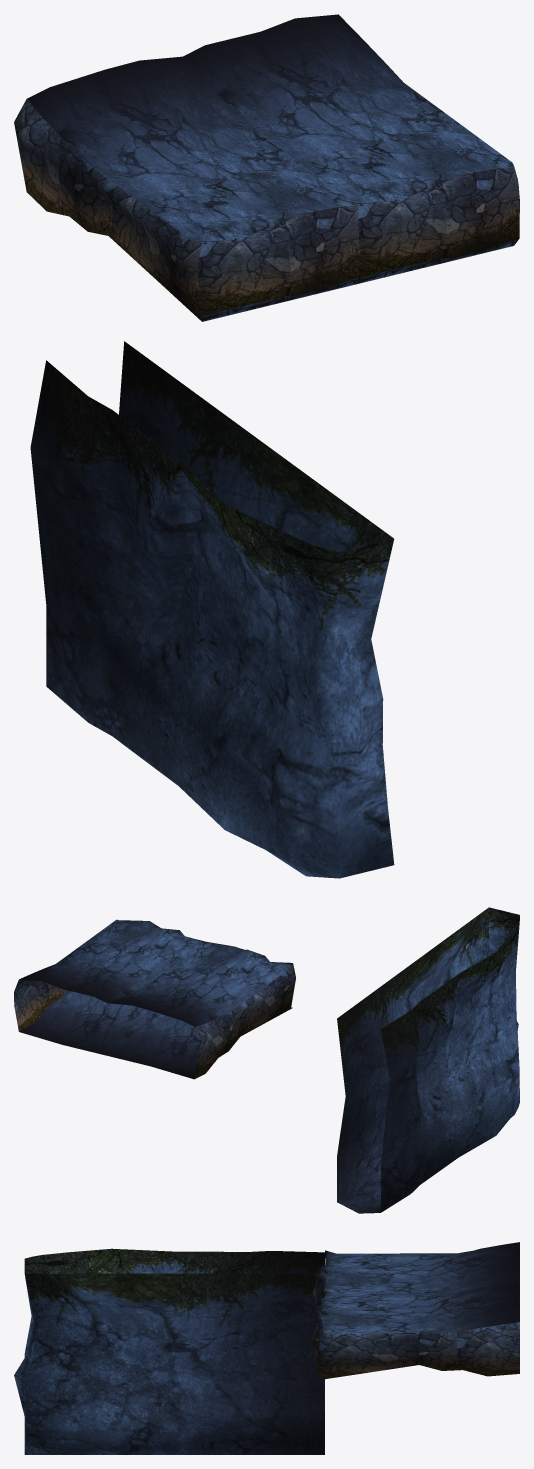
Rendered from dixing_2.FBX.
3 views of the same model, one above another, from view 1: azimuth 30°, elevation 25°; view 2: azimuth 150°, elevation 25°; view 3: azimuth 270°, elevation 25° (orthographic). The views are drawn at different scales.
Visible parts, largest first — view 1: objBox008, objObject026, Object01, Object03, Object02; view 2: objBox008, objObject026, Object03, Object01, Object02; view 3: objBox008, Object03, Object02, Object01, objObject026.
Part boxes in pixels (box(x1,y1,x2,y2)): objBox008: box(30, 341, 394, 878); objObject026: box(14, 70, 290, 321); Object01: box(183, 31, 446, 283); Object03: box(261, 14, 519, 264); Object02: box(105, 56, 359, 302); objBox008: box(337, 907, 519, 1213); objObject026: box(151, 949, 295, 1079); Object03: box(14, 919, 160, 1044); Object01: box(63, 928, 204, 1055); Object02: box(107, 941, 246, 1066); objBox008: box(14, 1248, 324, 1454); Object03: box(311, 1300, 519, 1379); Object02: box(313, 1257, 519, 1305); Object01: box(315, 1282, 519, 1323); objObject026: box(315, 1242, 519, 1275).
Size of the model in its own units: 32.48 by 27.62 by 50.56.
Materials: 2 (2 with a texture image).
